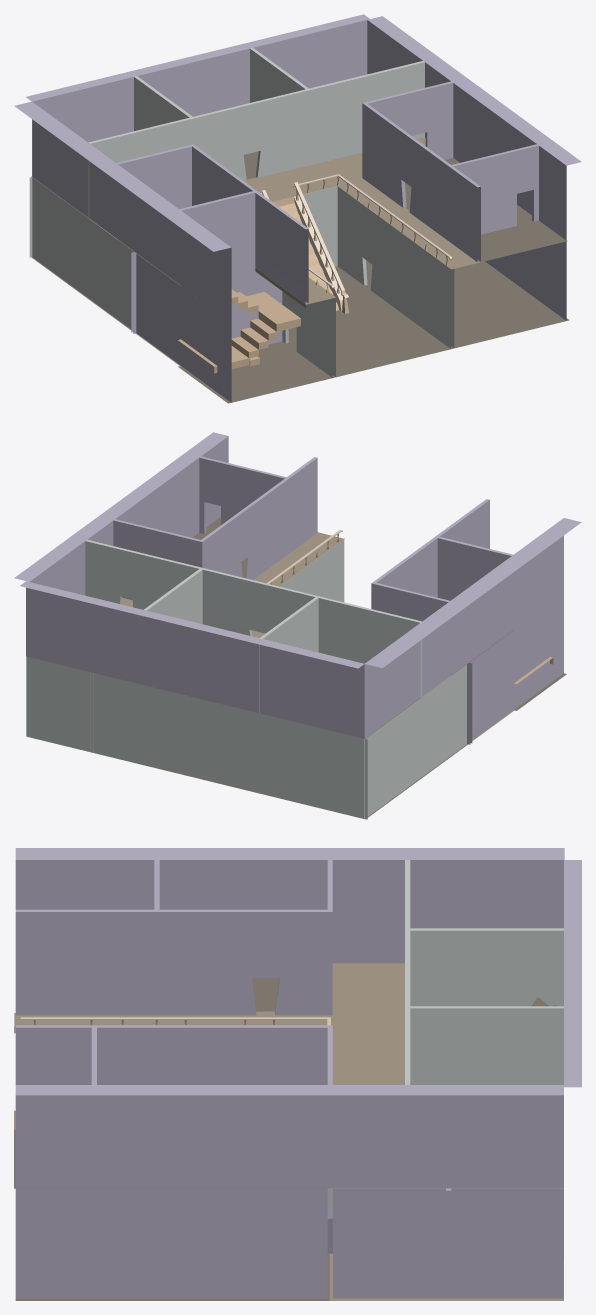
The model's file is NewHouse.fbx.
3 renders of one model, top to bottom at view 1: azimuth 30°, elevation 25°; view 2: azimuth 150°, elevation 25°; view 3: azimuth 270°, elevation 25°, orthographic. The views are drawn at different scales.
Parts seen in each view (by area): view 1: pCube10; view 2: pCube10; view 3: pCube10.
Boxes of the visible parts, x1,y1,x2,y2 form: pCube10: [14, 14, 581, 403]; pCube10: [14, 432, 581, 819]; pCube10: [14, 848, 581, 1300].
Size of the model in its own units: 113 by 46.15 by 110.
